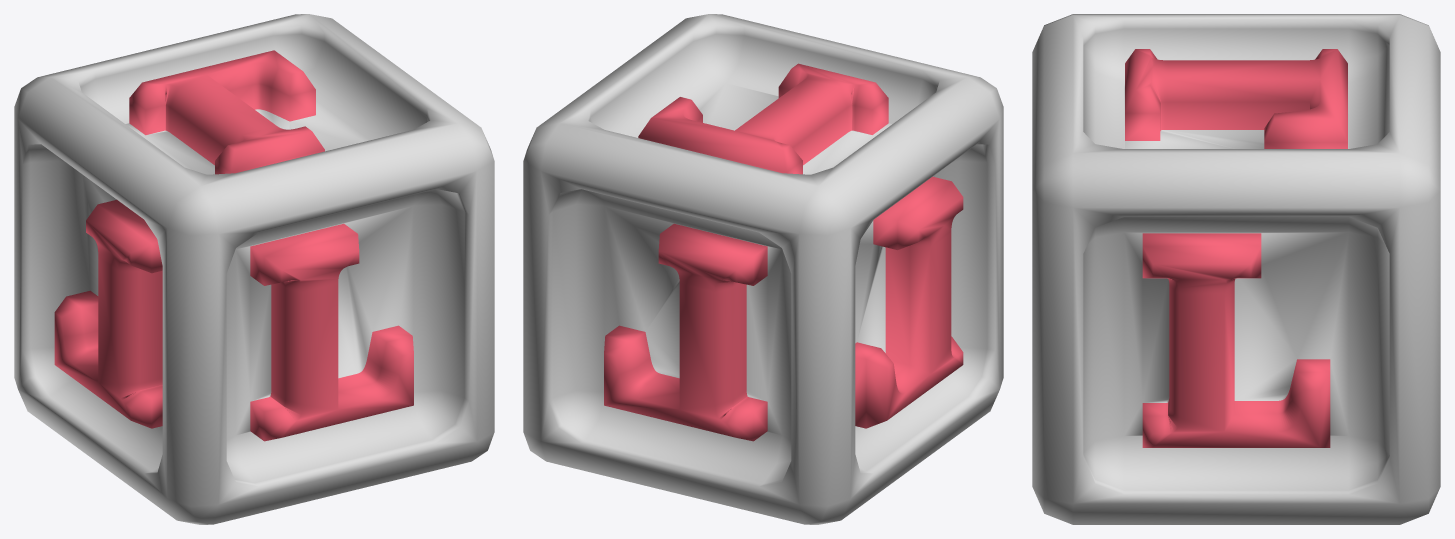
3 views of the same model, side by side, from view 1: azimuth 30°, elevation 25°; view 2: azimuth 150°, elevation 25°; view 3: azimuth 270°, elevation 25° (orthographic). The views are drawn at different scales.
Visible parts, largest first — view 1: obj_0; view 2: obj_0; view 3: obj_0.
Boxes of the visible parts, bbox=[...] form: obj_0: bbox=[14, 14, 494, 524]; obj_0: bbox=[523, 14, 1003, 524]; obj_0: bbox=[1032, 14, 1440, 524].
Size of the model in its own units: 100 by 100 by 100.
